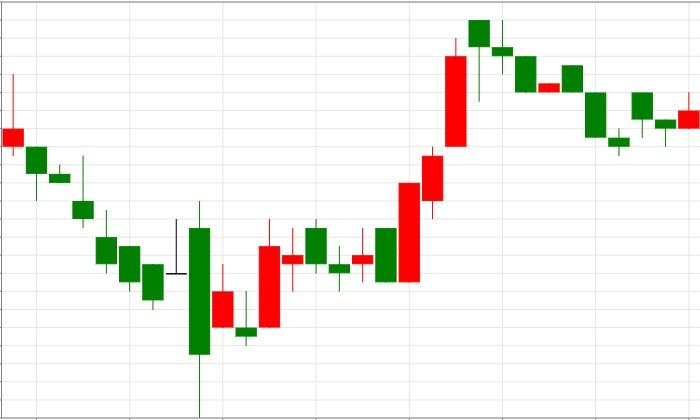hanging_man_fall: (376, 19, 490, 283)
